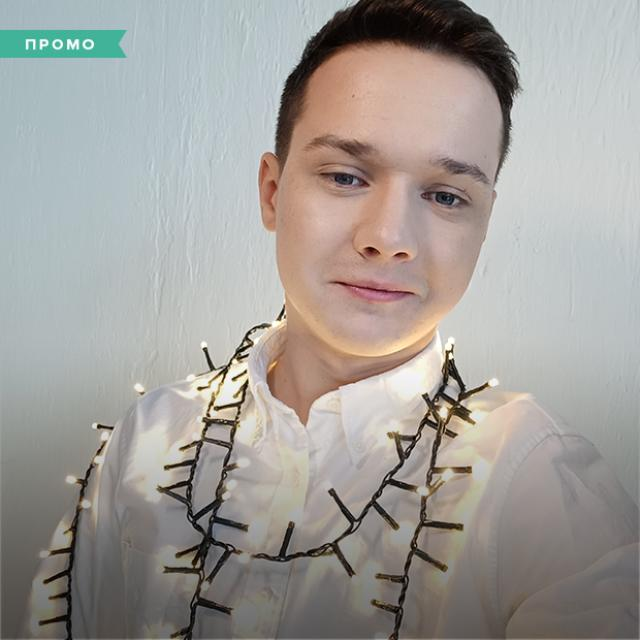earlobe: (258, 152, 280, 233)
